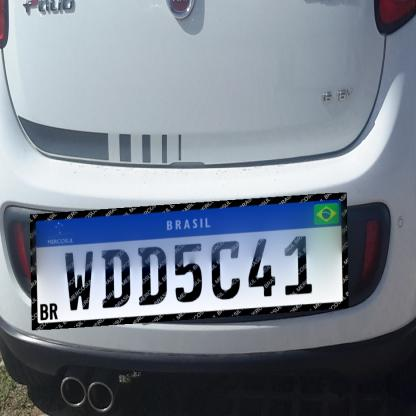PlacaM: (30, 193, 349, 330)
